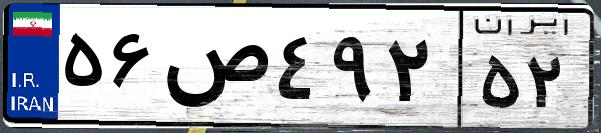2: (385, 28, 445, 110), (525, 38, 570, 115)
4: (270, 28, 330, 110)
5: (57, 26, 110, 100), (475, 38, 525, 113)
6: (110, 28, 158, 98)
9: (330, 28, 385, 110)
ص: (158, 20, 270, 120)
